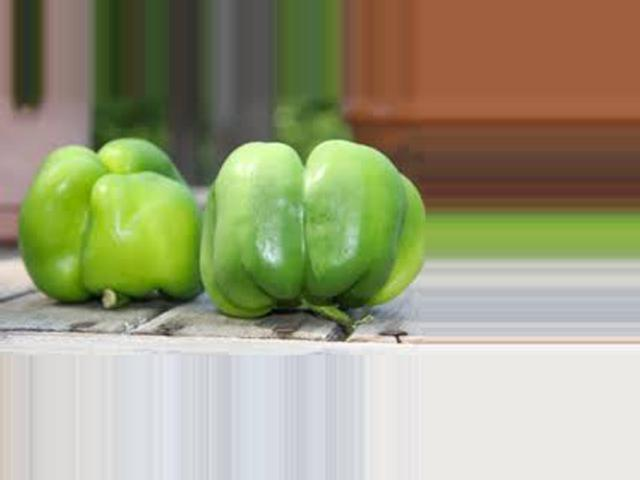bell_pepper: (10, 130, 204, 318)
